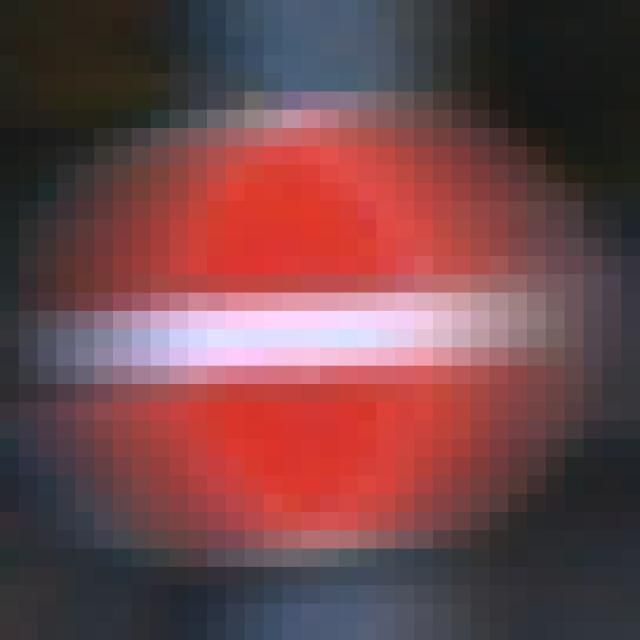No Entry: (95, 93, 547, 550)
